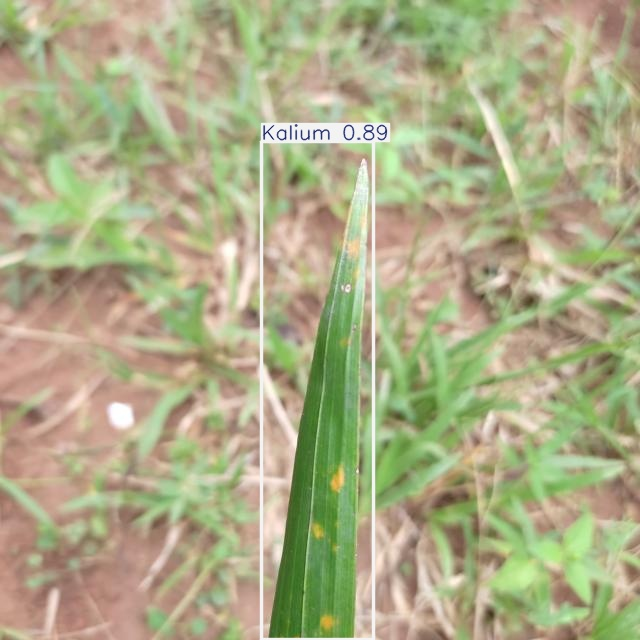Kalium: (262, 141, 374, 639)
